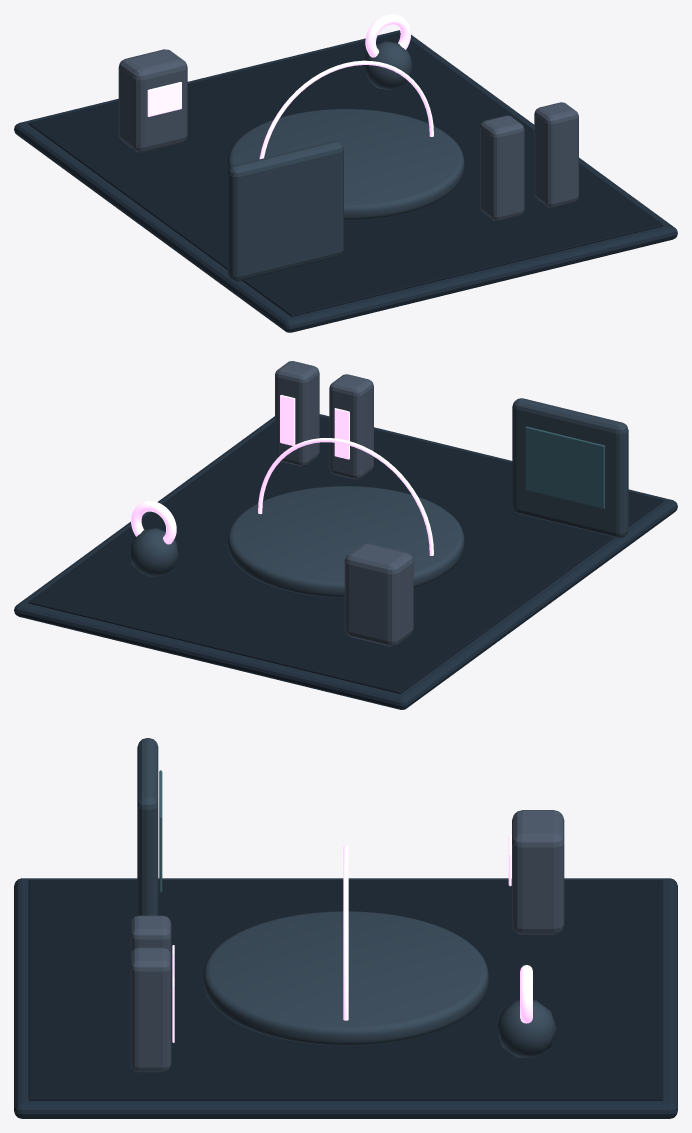
Rendered from hobby-district.glb.
3 renders of one model, top to bottom at view 1: azimuth 30°, elevation 25°; view 2: azimuth 150°, elevation 25°; view 3: azimuth 270°, elevation 25°, orthographic. The views are drawn at different scales.
Visible parts, largest first — view 1: inset, hobby_stage, platform, display_wall, arcade, monolith.001, monolith, kettlebell_body, stage_light, arcade_screen, kettlebell_handle; view 2: inset, hobby_stage, platform, display_wall, arcade, display_panel, monolith, monolith.001, kettlebell_body, stage_light, kettlebell_handle, monolith_light.001 (+1 smaller); view 3: inset, hobby_stage, platform, arcade, monolith.001, display_wall, kettlebell_body, monolith, stage_light, kettlebell_handle.
Boxes of the visible parts, x1,y1,x2,y2 form: inset: (28, 32, 663, 316); hobby_stage: (227, 109, 464, 220); platform: (14, 30, 677, 332); display_wall: (227, 141, 343, 281); arcade: (118, 49, 187, 152); monolith.001: (534, 102, 578, 207); monolith: (480, 115, 524, 220); kettlebell_body: (363, 41, 412, 90); stage_light: (259, 60, 433, 159); arcade_screen: (147, 82, 181, 116); kettlebell_handle: (365, 14, 410, 57); inset: (28, 416, 663, 693); hobby_stage: (227, 486, 464, 597); platform: (14, 414, 677, 709); display_wall: (512, 398, 628, 537); arcade: (344, 543, 413, 646); display_panel: (525, 426, 604, 508); monolith: (329, 374, 373, 479); monolith.001: (275, 361, 319, 466); kettlebell_body: (129, 528, 178, 577); stage_light: (258, 438, 433, 555); kettlebell_handle: (131, 501, 176, 544); monolith_light.001: (280, 395, 295, 445); inset: (28, 880, 663, 1100); hobby_stage: (203, 911, 488, 1045); platform: (14, 878, 677, 1118); arcade: (512, 810, 564, 934); monolith.001: (130, 947, 171, 1072); display_wall: (137, 738, 158, 915); kettlebell_body: (496, 1000, 556, 1057); monolith: (130, 915, 171, 955); stage_light: (343, 845, 348, 1020); kettlebell_handle: (520, 965, 532, 1023).
Bounding box in the file's own units: 9.45 × 4.27 × 11.4.
